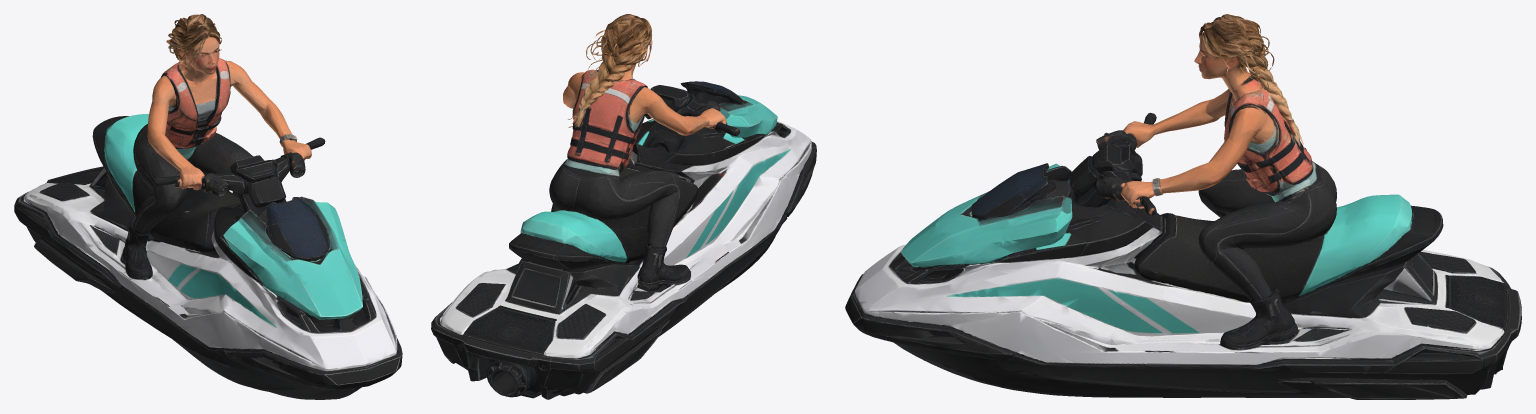
Rendered from mara-on-ski-aqua-rush.glb.
3 renders of one model, left to right at view 1: azimuth 30°, elevation 25°; view 2: azimuth 150°, elevation 25°; view 3: azimuth 270°, elevation 25°, orthographic. The views are drawn at different scales.
Parts seen in each view (by area): view 1: mara-on-ski-aqua-rush; view 2: mara-on-ski-aqua-rush; view 3: mara-on-ski-aqua-rush.
Boxes of the visible parts, x1,y1,x2,y2 form: mara-on-ski-aqua-rush: (14, 14, 402, 399); mara-on-ski-aqua-rush: (431, 14, 816, 399); mara-on-ski-aqua-rush: (845, 14, 1521, 399).
Bounding box in the file's own units: 1.09 × 1.85 × 3.2.
1 material, 1 textured.
